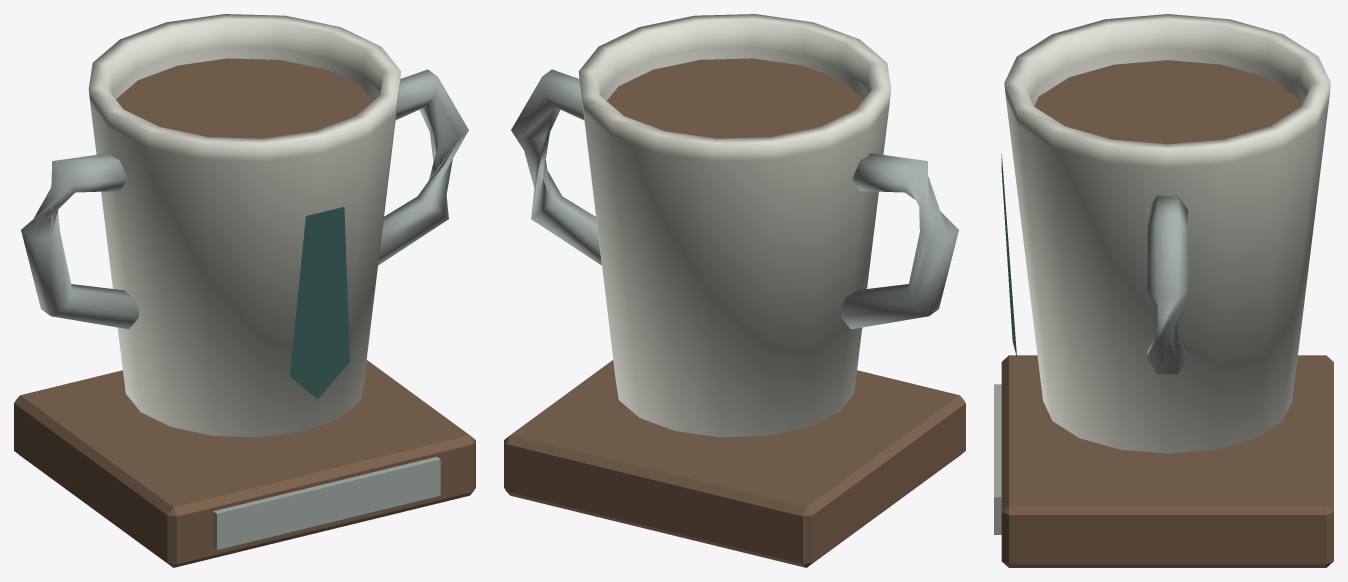
The model's file is trophee-cafe-v01.glb.
3 renders of one model, left to right at view 1: azimuth 30°, elevation 25°; view 2: azimuth 150°, elevation 25°; view 3: azimuth 270°, elevation 25°, orthographic. The views are drawn at different scales.
Parts seen in each view (by area): view 1: Tasse trophée, intérieur et bord roulé, Socle employé du mois, Le café travaille encore, Plaque de récompense, Anse de coupe, Cravate du collègue café, Anse de coupe.001; view 2: Tasse trophée, intérieur et bord roulé, Socle employé du mois, Le café travaille encore, Anse de coupe, Anse de coupe.001; view 3: Tasse trophée, intérieur et bord roulé, Socle employé du mois, Le café travaille encore, Anse de coupe.001, Plaque de récompense, Cravate du collègue café.
Boxes of the visible parts, bbox=[...] form: Tasse trophée, intérieur et bord roulé: bbox=[88, 14, 401, 437]; Socle employé du mois: bbox=[14, 360, 475, 567]; Le café travaille encore: bbox=[116, 58, 372, 138]; Plaque de récompense: bbox=[213, 456, 440, 549]; Anse de coupe: bbox=[21, 153, 138, 329]; Cravate du collègue café: bbox=[290, 207, 349, 399]; Anse de coupe.001: bbox=[378, 69, 468, 265]; Tasse trophée, intérieur et bord roulé: bbox=[578, 14, 891, 437]; Socle employé du mois: bbox=[504, 360, 965, 567]; Le café travaille encore: bbox=[607, 58, 863, 138]; Anse de coupe: bbox=[841, 153, 958, 329]; Anse de coupe.001: bbox=[511, 69, 601, 265]; Tasse trophée, intérieur et bord roulé: bbox=[1004, 14, 1330, 453]; Socle employé du mois: bbox=[1001, 355, 1333, 567]; Le café travaille encore: bbox=[1034, 60, 1300, 144]; Anse de coupe.001: bbox=[1147, 195, 1187, 374]; Plaque de récompense: bbox=[994, 384, 1001, 534]; Cravate du collègue café: bbox=[1001, 153, 1016, 357].
Bounding box in the file's own units: 0.568 × 0.49 × 0.368.
